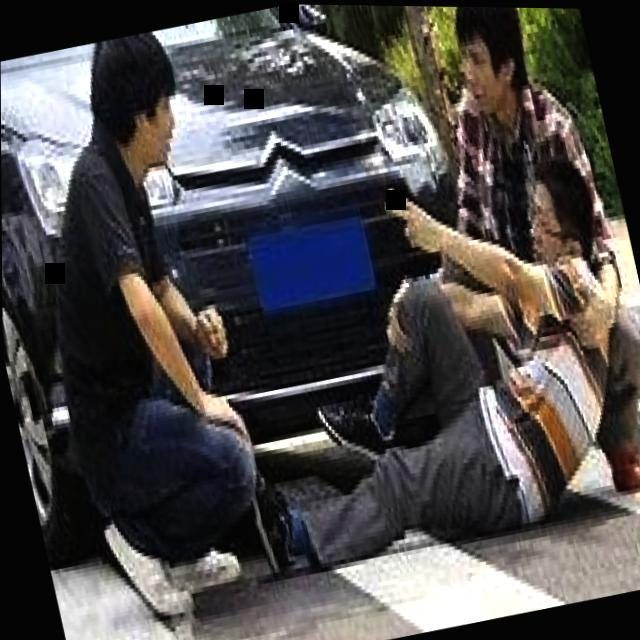Fall-Detected: (174, 110, 640, 603)
